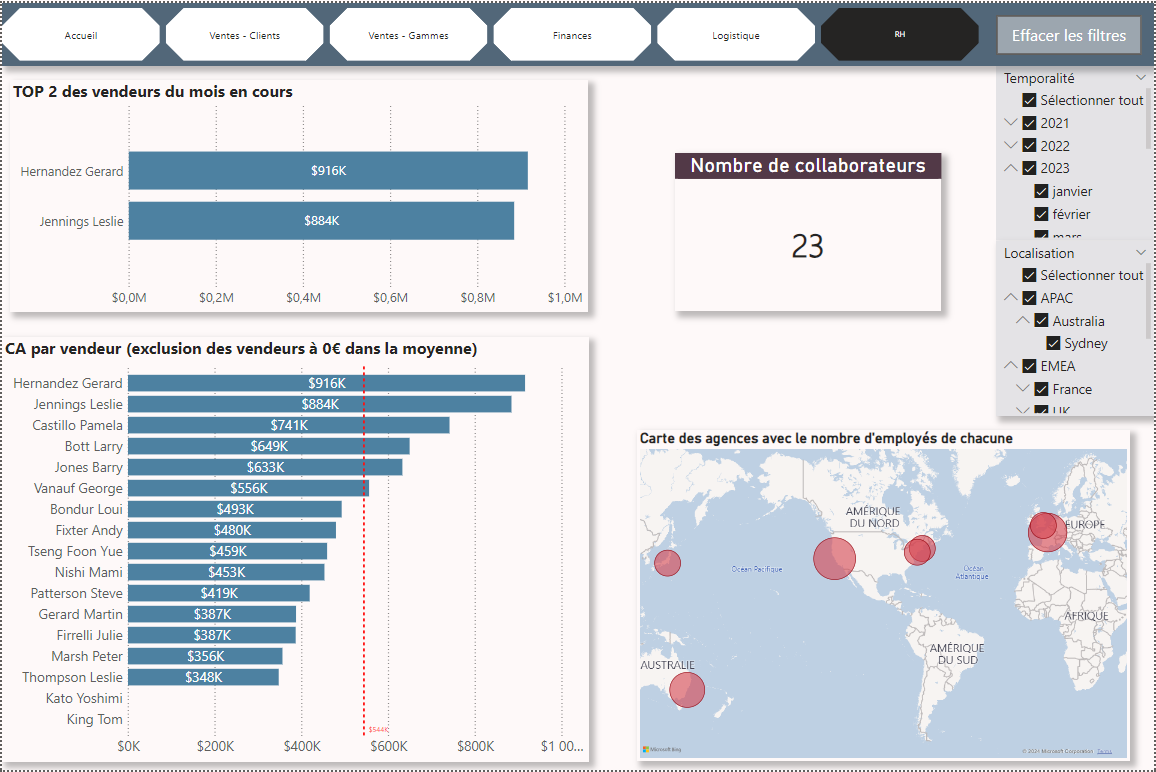

The page's visual inventory and layout, read from the dashboard file:
{"tool":"powerbi","page":{"name":"RH","canvas":[1920,1280],"ordinal":5},"visuals":[{"type":"clusteredBarChart","title":"CA par vendeur (exclusion des vendeurs à 0€ dans la moyenne)","fields":{"Category":["toys_and_models employees.Nom&Prenom"],"Y":["toys_and_models orderdetails.CA calculé"]},"box":[0,556,978,708],"z":0},{"type":"clusteredBarChart","title":"TOP 2 des vendeurs du mois en cours","fields":{"Y":["toys_and_models orderdetails.CA calculé"],"Category":["toys_and_models employees.Nom&Prenom"]},"box":[14,128,964,386],"z":1000},{"type":"textbox","box":[0,0,1920,105],"z":2000},{"type":"pageNavigator","box":[0,8.3,1631.7,88.3],"z":3000},{"type":"actionButton","box":[1656.7,20,243.3,66.7],"z":4000},{"type":"slicer","fields":{"Values":["toys_and_models offices.territory","toys_and_models offices.country","toys_and_models offices.city"]},"box":[1656.7,396.7,263.3,291.7],"z":5000},{"type":"map","title":"Carte des agences avec le nombre d''employés de chacune","fields":{"Size":["toys_and_models employees.Nom&Prenom"],"Category":["toys_and_models offices.city"]},"box":[1058,712,822,552],"z":6000},{"type":"card","title":"Nombre de collaborateurs","fields":{"Values":["toys_and_models employees.Nom&Prenom"]},"box":[1122,250,444,264],"z":7000},{"type":"slicer","fields":{"Values":["Calendar.Full.Variation.Hiérarchie de dates.Année","Calendar.Full.Variation.Hiérarchie de dates.Mois"]},"box":[1656.7,105,263.3,291],"z":8000}]}

Visuals, with their boxes in screenshot pixels (x1, y1, x2, y2), scaled from the page's 1920x1280 canvas onto the 1156x772 screenshot:
"CA par vendeur (exclusion des vendeurs à 0€ dans la moyenne)" clusteredBarChart: l=0, t=335, r=589, b=762
"TOP 2 des vendeurs du mois en cours" clusteredBarChart: l=8, t=77, r=589, b=310
textbox: l=0, t=0, r=1155, b=63
pageNavigator: l=0, t=5, r=982, b=58
actionButton: l=997, t=12, r=1144, b=52
slicer - toys_and_models offices.territory x toys_and_models offices.country: l=997, t=239, r=1155, b=415
"Carte des agences avec le nombre d''employés de chacune" map: l=637, t=429, r=1132, b=762
"Nombre de collaborateurs" card: l=676, t=151, r=943, b=310
slicer - Calendar.Full.Variation.Hiérarchie de dates.Année x Calendar.Full.Variation.Hiérarchie de dates.Mois: l=997, t=63, r=1155, b=239
